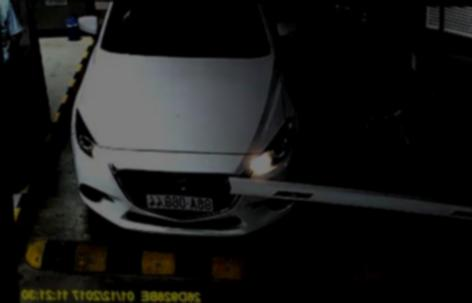License_Plate: (147, 193, 214, 212)
